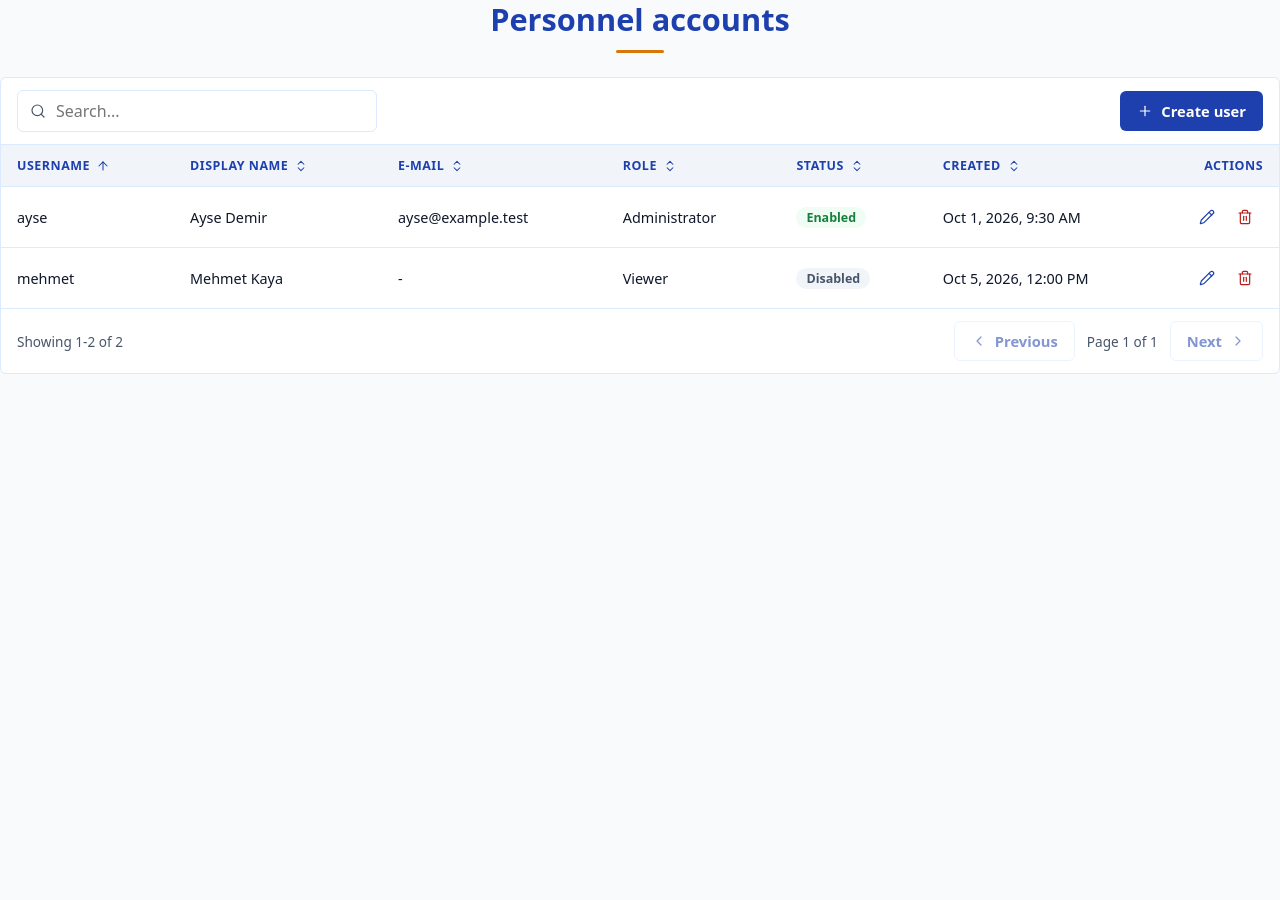
Test: the create form shows the required messages and does not send an empty account
Check: the text "ayse" is shown, box [1,187,174,248]
Click the button "Create user" at (1192, 111), box [1120,91,1263,131]
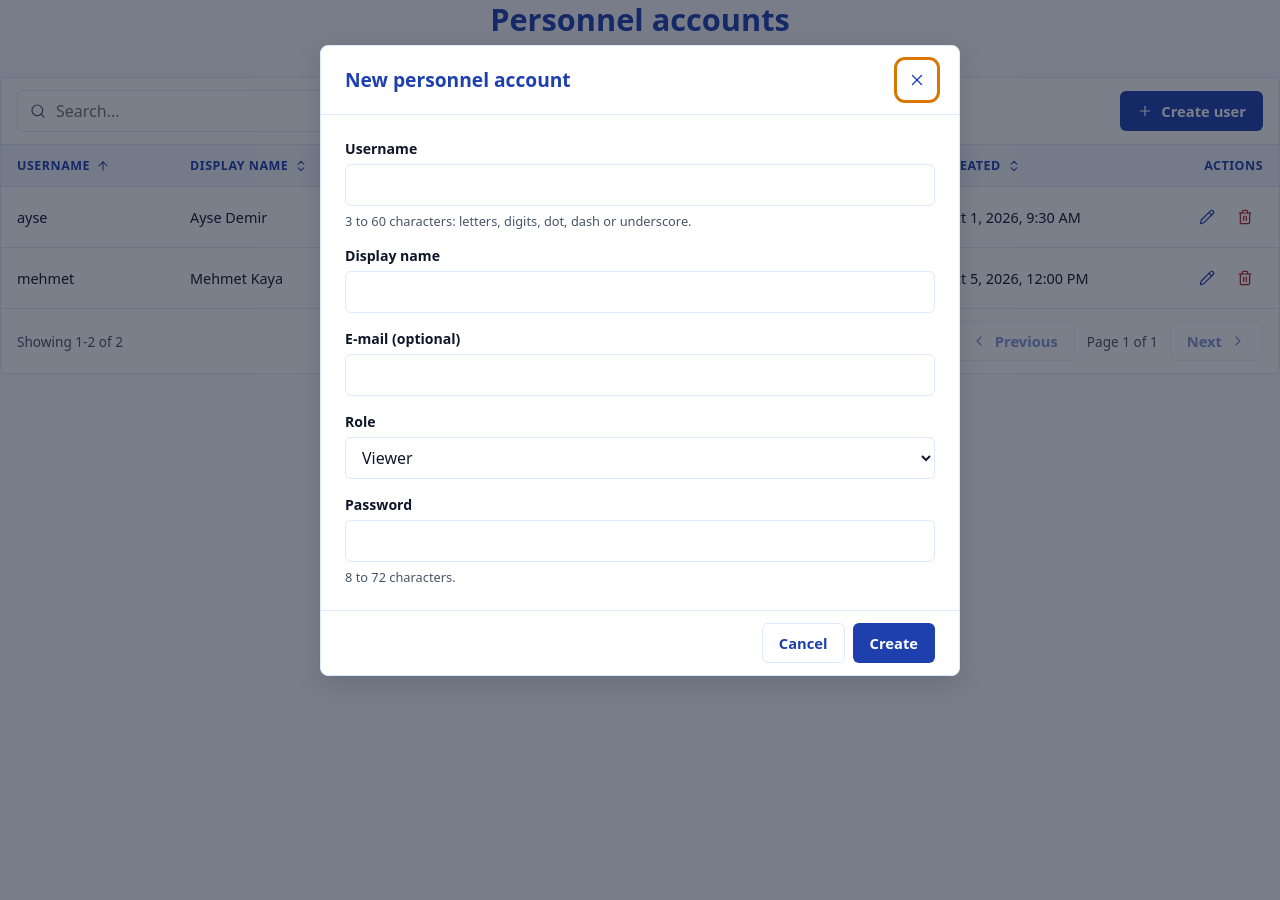
Click the button "Create" at (894, 643), box [852,623,935,663]
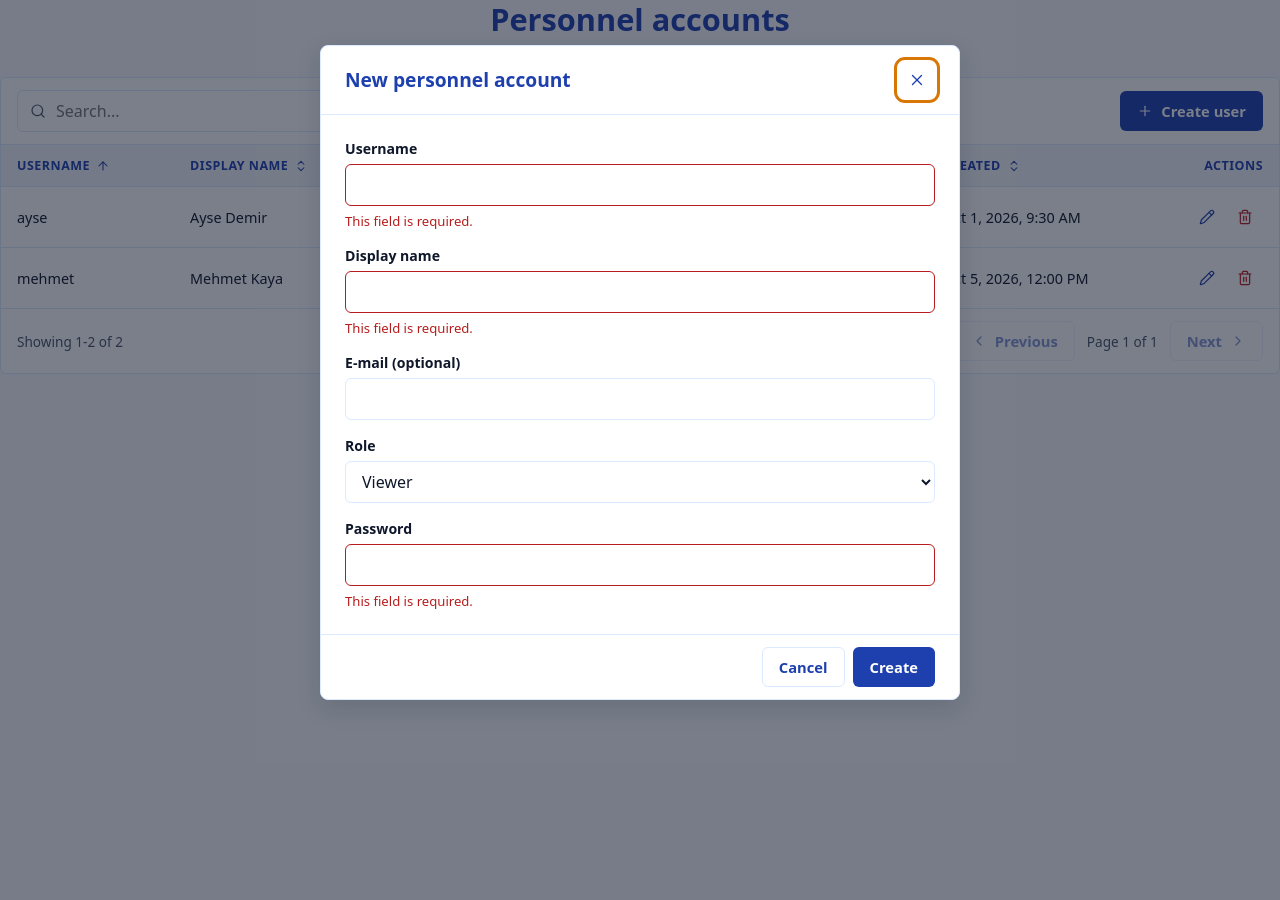
Check: the text "This field is required." is shown 3 times, box [345,212,473,230]; [345,319,473,337]; [345,592,473,610]
